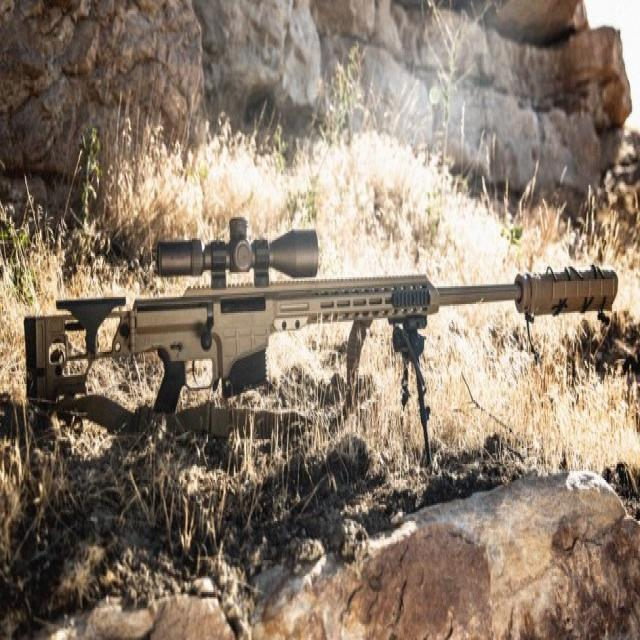Rifle: (25, 217, 619, 416)
